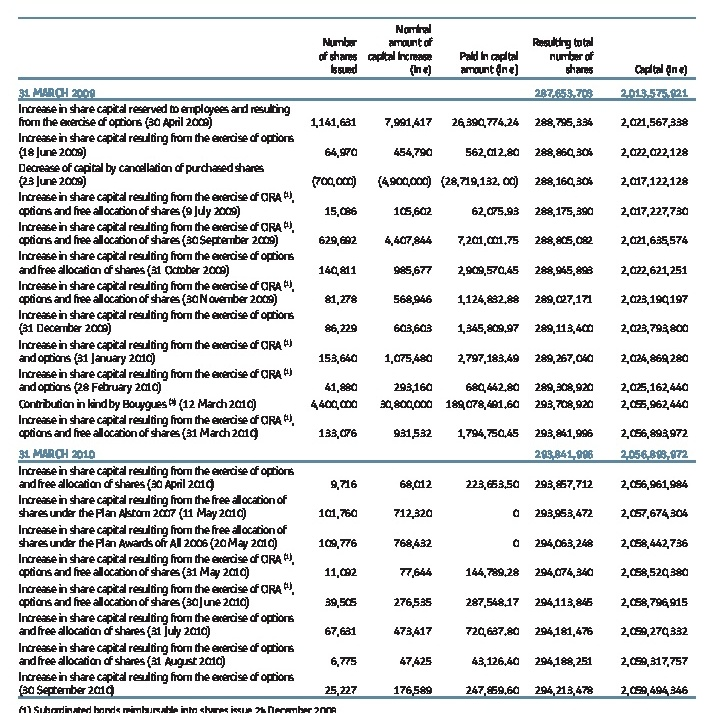table: (0, 0, 708, 713)
